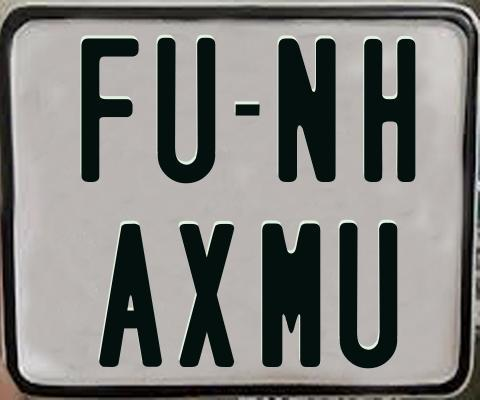A: (97, 224, 165, 370)
F: (78, 35, 140, 183)
H: (363, 39, 417, 183)
M: (261, 222, 324, 367)
N: (275, 38, 337, 188)
U: (154, 36, 215, 185), (337, 221, 397, 367)
X: (176, 221, 234, 364)
